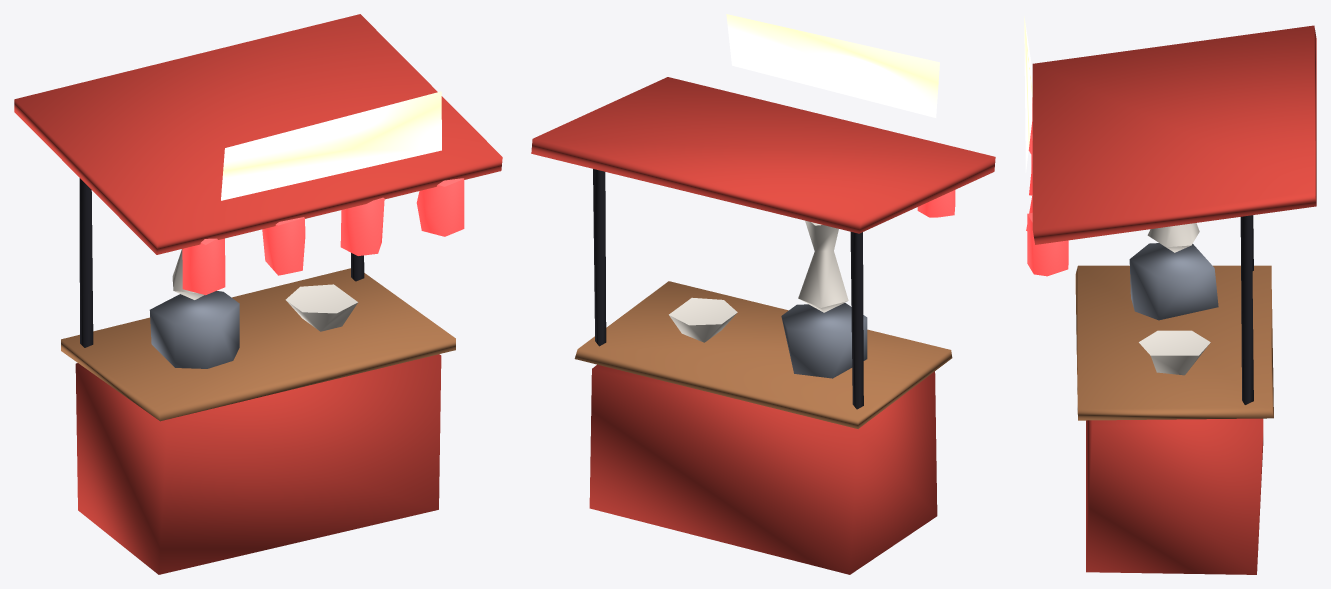
The model's file is noodle_stall.glb.
The picture shows the model from 3 angles, left to right: view 1: azimuth 30°, elevation 25°; view 2: azimuth 150°, elevation 25°; view 3: azimuth 270°, elevation 25°; orthographic projection. The views are drawn at different scales.
Visible parts, largest first — view 1: noodle_stall; view 2: noodle_stall; view 3: noodle_stall.
Part boxes in pixels (<box>): noodle_stall: <box>14,14,502,574</box>; noodle_stall: <box>531,14,995,574</box>; noodle_stall: <box>1024,16,1316,574</box>.
Bounding box in the file's own units: 2.17 × 2.66 × 1.61.
Materials: 1 (1 with a texture image).
